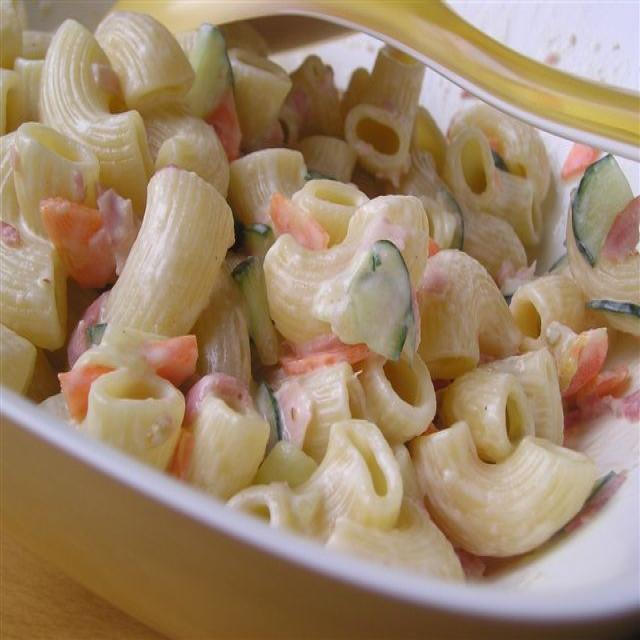蔬菜料理: (0, 11, 636, 618)
